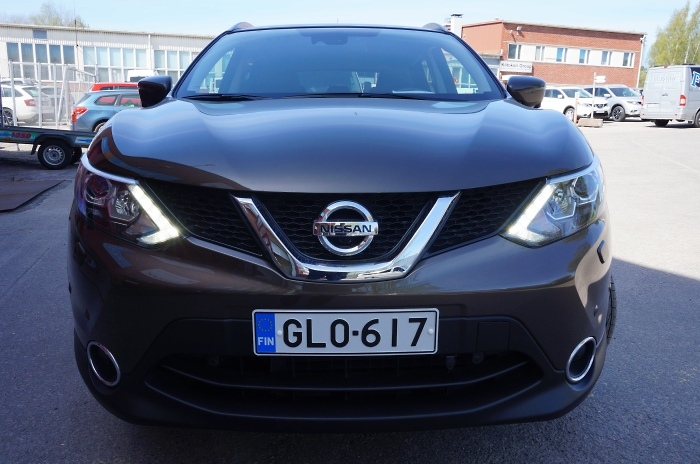license: (247, 307, 436, 355)
